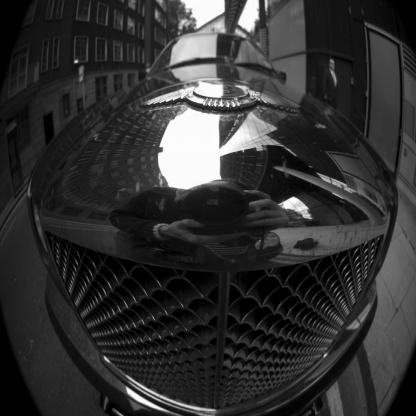truck: (26, 8, 403, 412)
